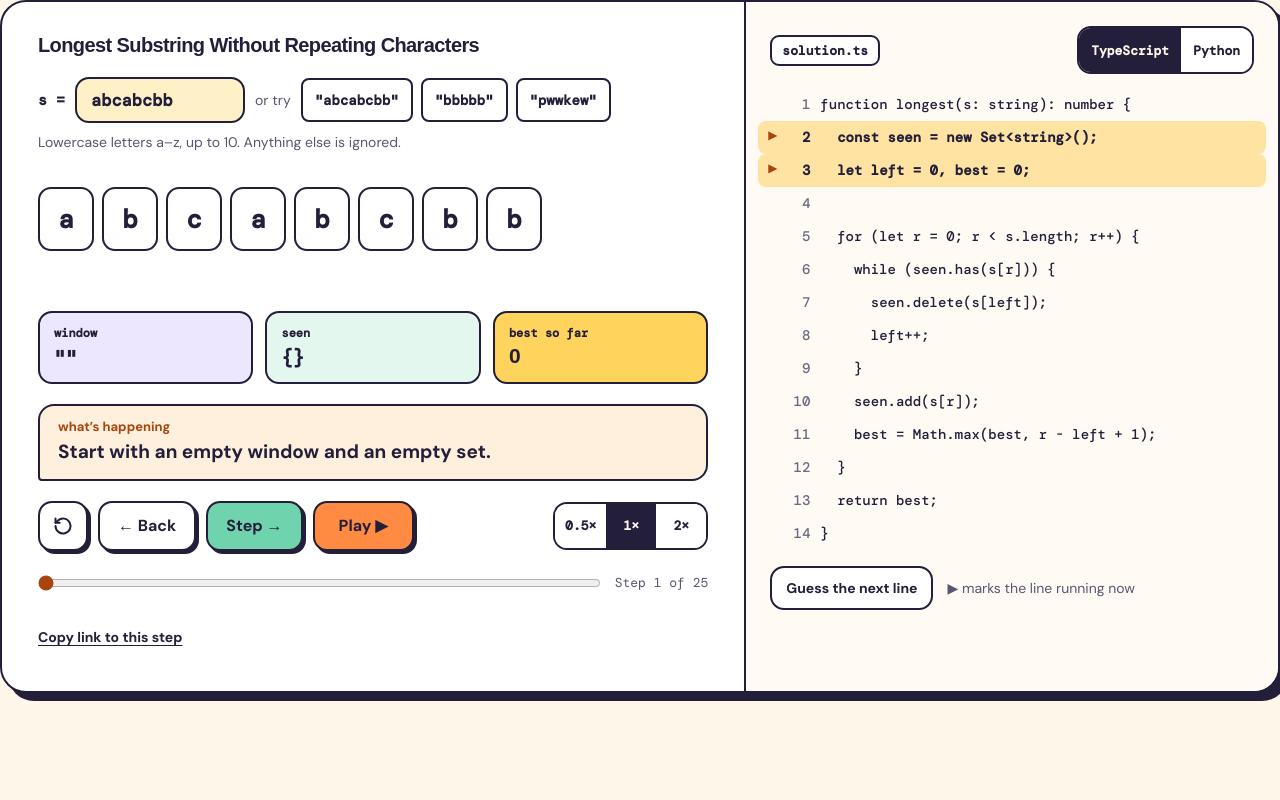
it: VisualizerPlayer › loads a preset and restarts at step 1
Press ArrowRight in the element named "visualizer. use left and right arrow keys"
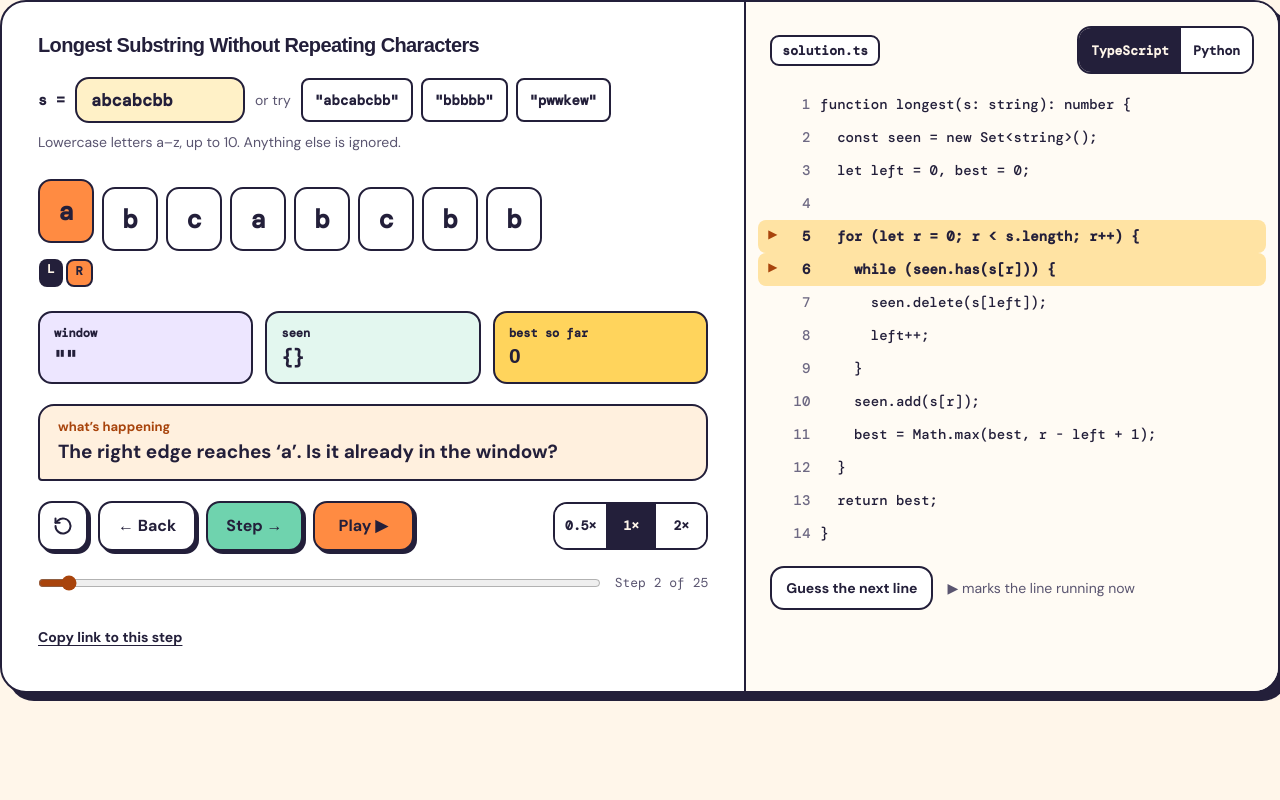
Press ArrowRight in the element named "visualizer. use left and right arrow keys"
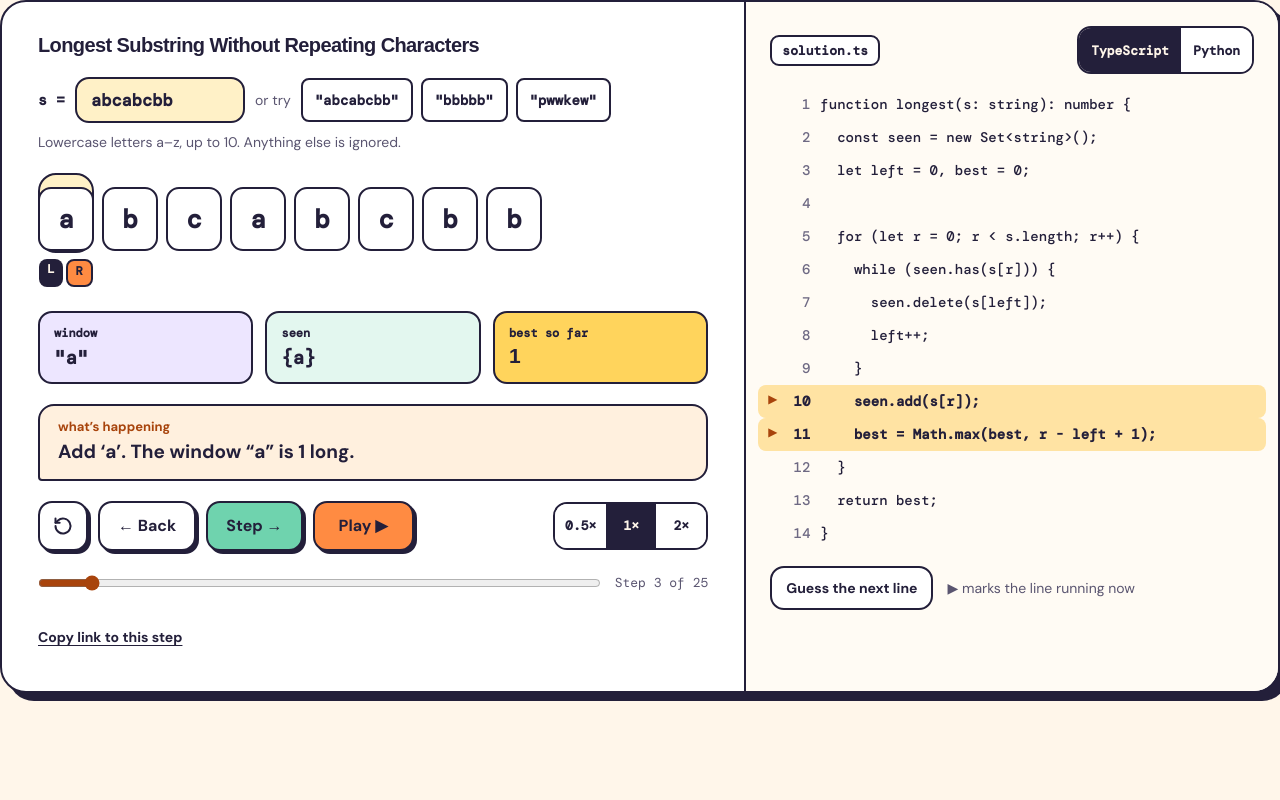
Click the button with aria-label "Load example bbbbb" at (464, 100), box [421,78,508,122]
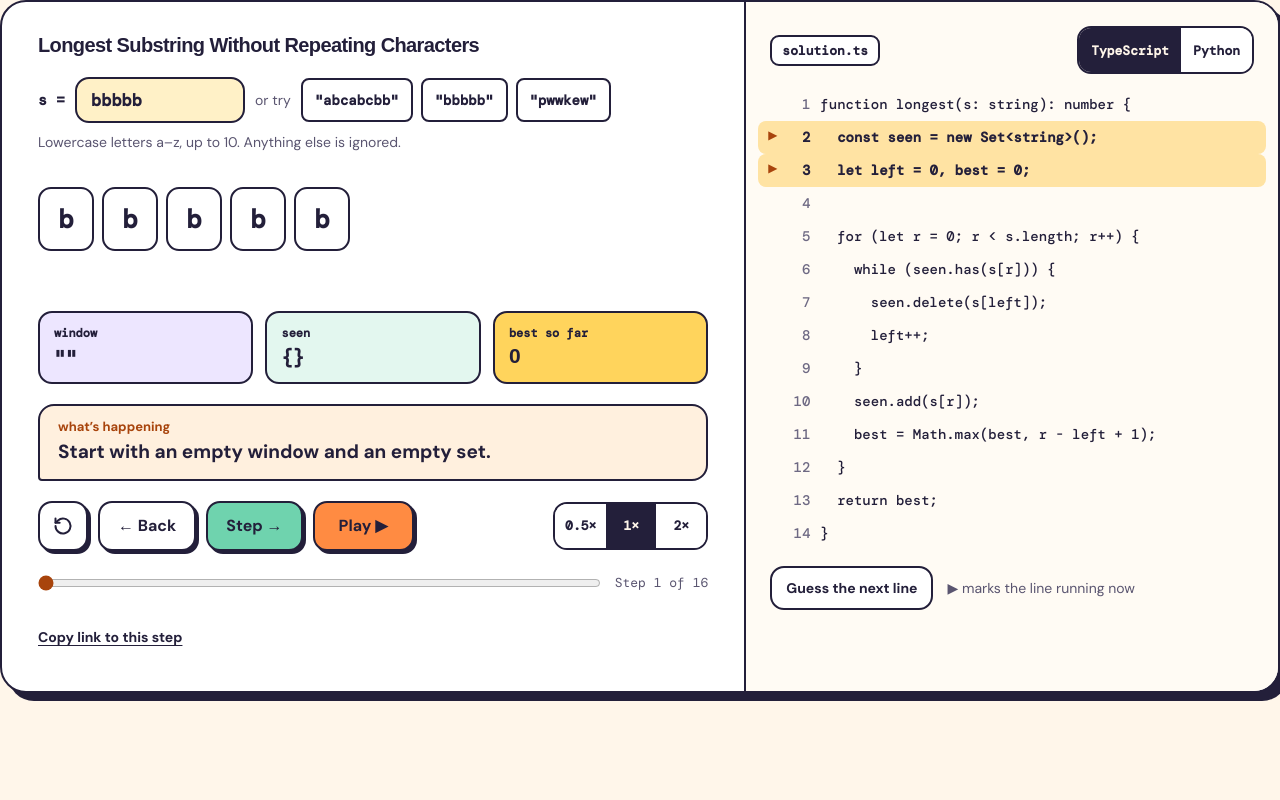
Check: the text "Step 1 of 16" is shown, box [615,574,708,591]
